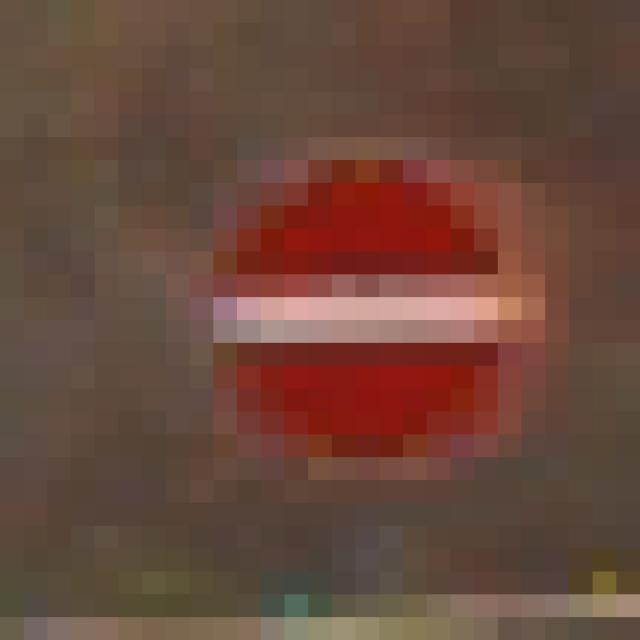No Entry: (143, 115, 523, 504)
